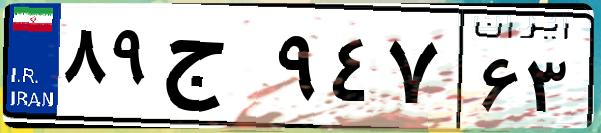3: (525, 38, 570, 115)
4: (330, 28, 385, 110)
6: (475, 38, 525, 113)
7: (385, 28, 445, 110)
8: (57, 26, 110, 100)
9: (270, 28, 330, 110), (110, 28, 158, 98)
ج: (158, 20, 270, 120)
